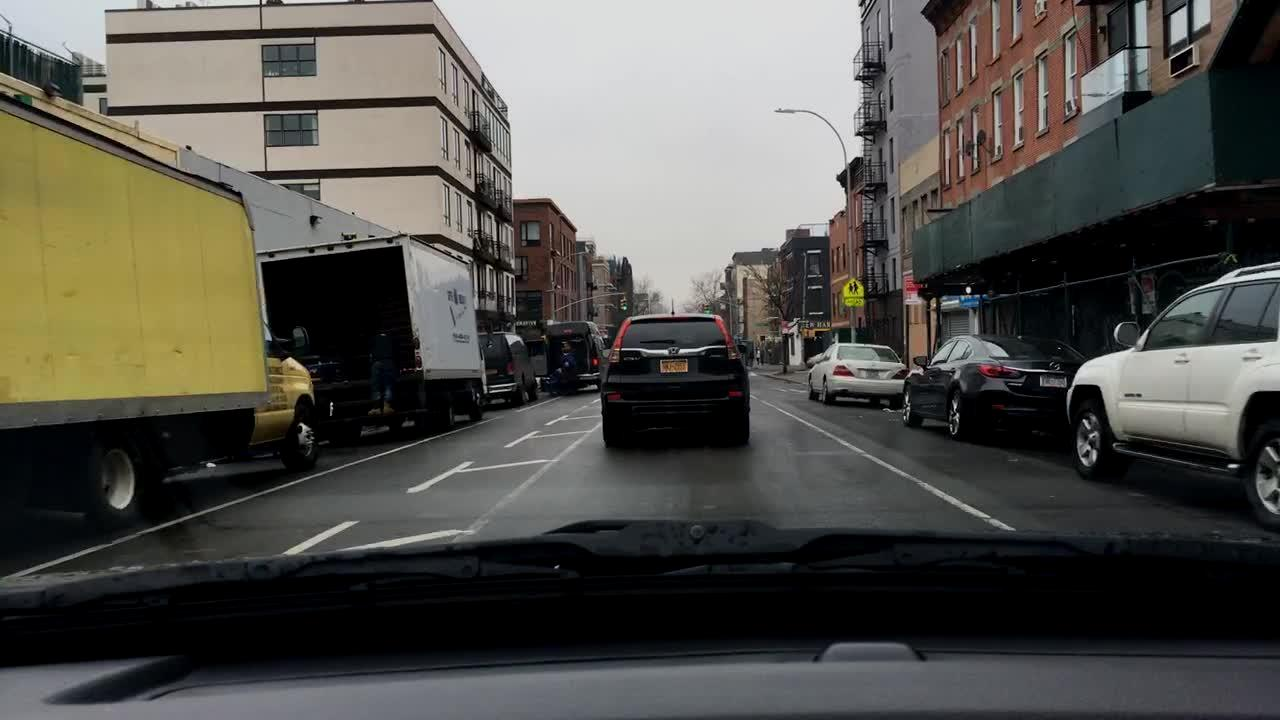Honda: (666, 344, 682, 359)
Mazda: (1044, 357, 1066, 376)
